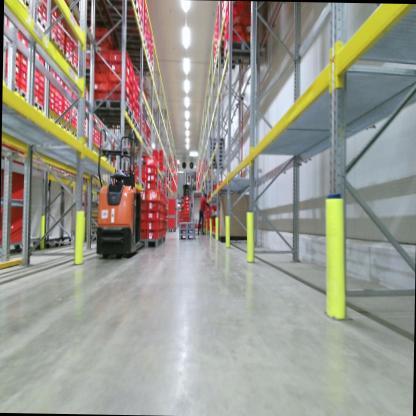pallet: (223, 39, 263, 66), (91, 98, 133, 122), (108, 11, 143, 33), (102, 114, 137, 132), (104, 0, 140, 16), (120, 33, 148, 53), (76, 0, 105, 18), (126, 47, 152, 67), (214, 38, 237, 55), (83, 65, 109, 80), (212, 53, 238, 68), (11, 80, 29, 99), (137, 236, 162, 249), (36, 14, 49, 36), (32, 97, 44, 115), (219, 4, 228, 25), (45, 111, 57, 125), (65, 52, 74, 70), (62, 122, 72, 138), (179, 219, 195, 229), (142, 65, 155, 76), (49, 28, 57, 44), (57, 41, 66, 55), (207, 162, 224, 169), (179, 233, 195, 240), (54, 116, 63, 128), (23, 0, 34, 9), (71, 128, 79, 140), (206, 136, 224, 141), (206, 149, 224, 154), (207, 144, 224, 149), (73, 63, 80, 74), (179, 229, 194, 234), (207, 154, 224, 158), (207, 158, 224, 162), (212, 232, 219, 241), (93, 145, 99, 155), (206, 141, 223, 144), (162, 234, 167, 244), (101, 176, 106, 184), (209, 232, 213, 236)
pallet_truck: (94, 123, 158, 253), (175, 181, 199, 239)
small_load_carrier: (7, 72, 165, 204), (107, 59, 129, 84), (108, 80, 130, 98), (109, 50, 129, 68), (223, 33, 245, 48), (225, 18, 247, 33), (107, 90, 129, 105), (225, 11, 243, 25), (146, 189, 162, 203), (89, 48, 109, 59), (145, 154, 158, 170), (145, 208, 160, 221), (92, 69, 108, 81), (145, 198, 161, 210), (91, 80, 108, 91), (146, 218, 160, 231), (92, 58, 108, 69), (146, 228, 160, 240), (144, 171, 157, 183), (144, 164, 156, 176), (144, 178, 157, 189), (92, 91, 107, 100), (20, 31, 29, 46), (135, 188, 147, 199), (135, 199, 146, 210), (19, 51, 27, 65), (10, 68, 19, 80), (18, 62, 27, 74), (18, 81, 27, 93), (127, 77, 133, 93), (139, 207, 147, 219), (15, 25, 21, 41), (19, 67, 27, 79), (40, 14, 47, 27), (128, 60, 134, 74), (139, 227, 146, 239), (36, 7, 43, 19), (42, 0, 48, 13), (19, 75, 26, 86), (139, 219, 147, 228), (13, 58, 20, 68), (34, 67, 40, 78), (38, 78, 44, 89), (39, 69, 45, 80), (128, 66, 132, 82), (132, 68, 136, 83), (14, 64, 20, 74), (34, 79, 39, 91), (42, 9, 48, 19), (48, 82, 55, 90), (15, 49, 20, 60), (39, 53, 44, 64), (35, 49, 40, 60), (49, 88, 54, 99), (54, 88, 59, 99), (33, 93, 39, 102), (33, 87, 39, 95), (38, 98, 44, 106), (58, 89, 62, 101), (129, 87, 132, 102), (132, 97, 135, 112), (39, 94, 44, 103), (49, 101, 54, 110), (53, 104, 58, 113), (128, 99, 132, 110), (34, 75, 40, 82), (39, 86, 44, 94), (133, 81, 136, 93), (54, 94, 58, 103), (49, 96, 54, 103), (132, 105, 135, 116), (54, 100, 58, 108), (57, 108, 61, 116), (58, 104, 62, 112), (132, 91, 135, 101), (160, 219, 163, 229), (160, 210, 163, 220), (160, 203, 164, 210), (160, 230, 163, 237), (59, 98, 62, 104)
